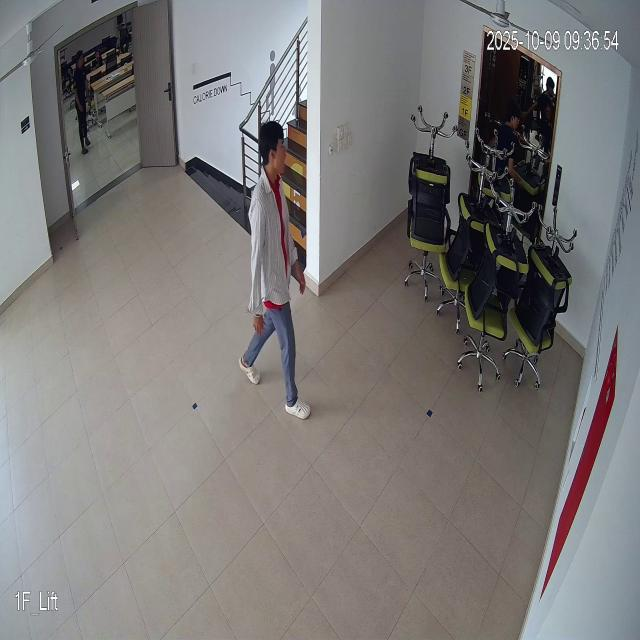face: (258, 119, 292, 181)
